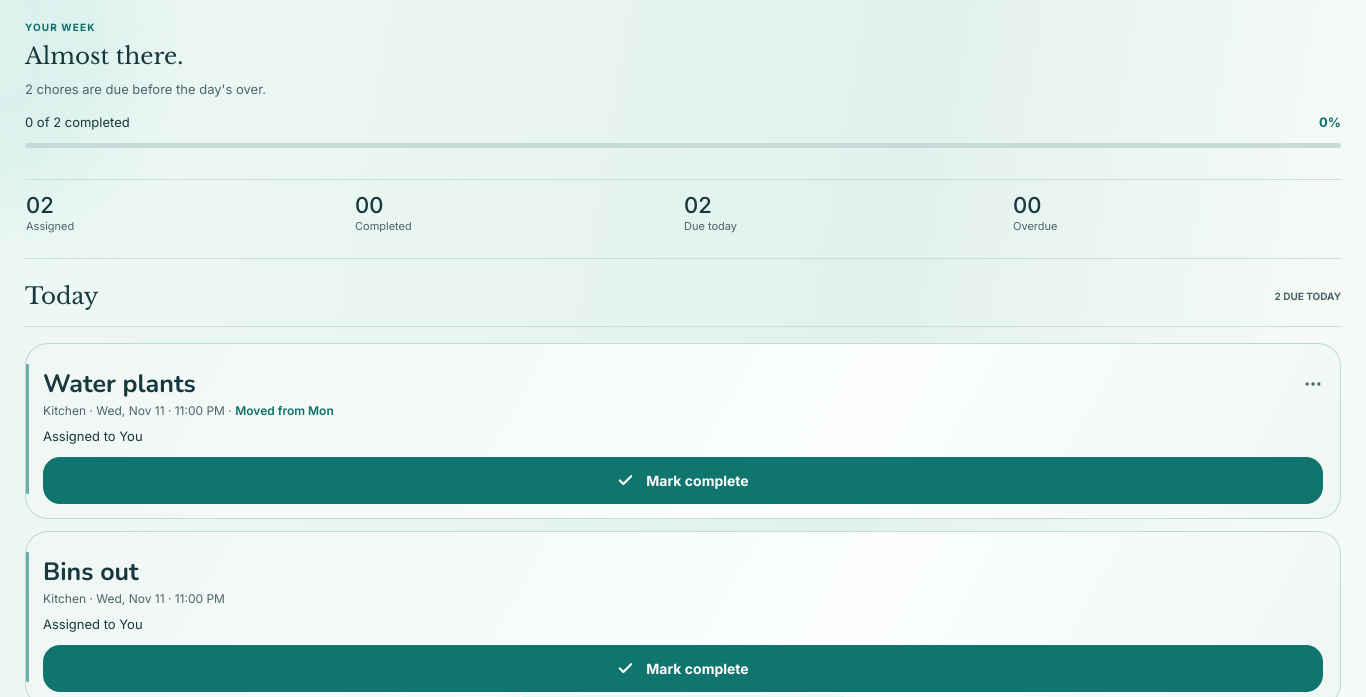
single-occurrence actions on Home and My Chores › shows the moved hint and offers More only where the viewer may act
(page scrolled)
Check: the heading "Today" is shown, box x1=25 y1=283 x2=98 y2=311
Check: the text "Moved from Mon" is shown, box x1=235 y1=403 x2=334 y2=418
Click the button named "More actions for Water plants" at [1313, 384], box x1=1291 y1=362 x2=1335 y2=406
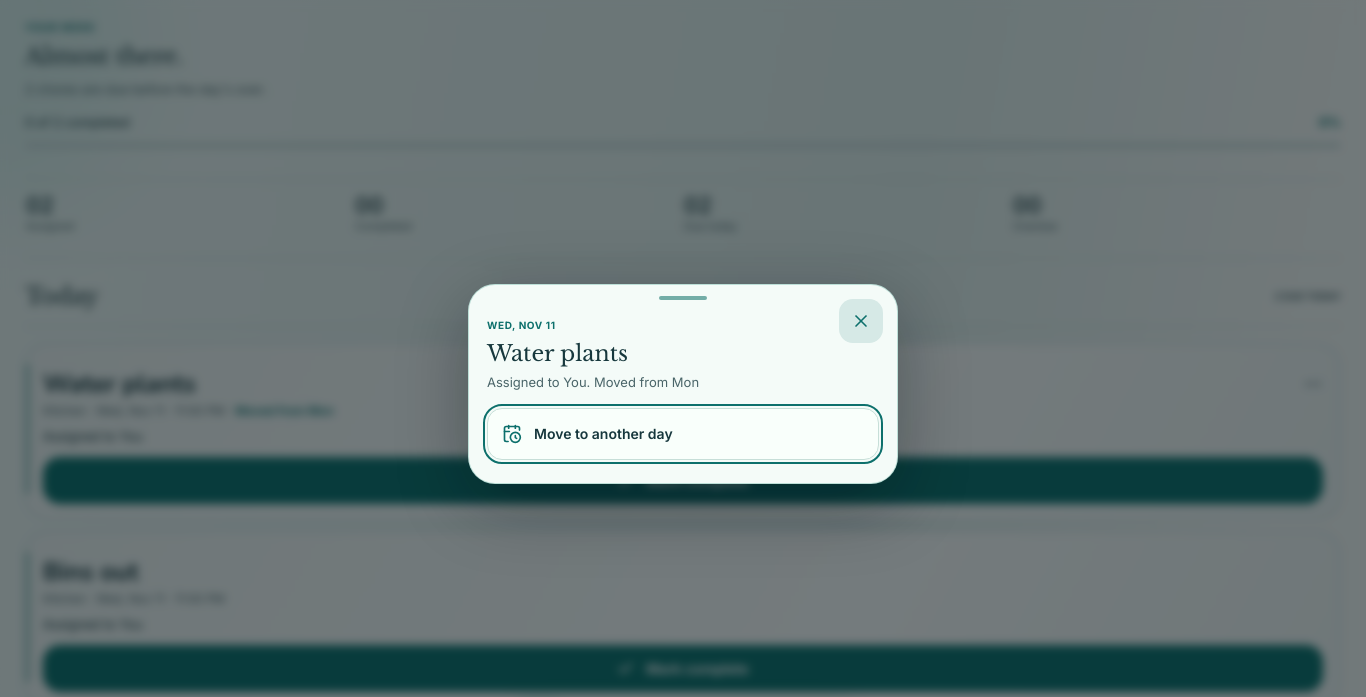
Check: the list items read "Move to another day", in this order, box x1=487 y1=408 x2=879 y2=460
